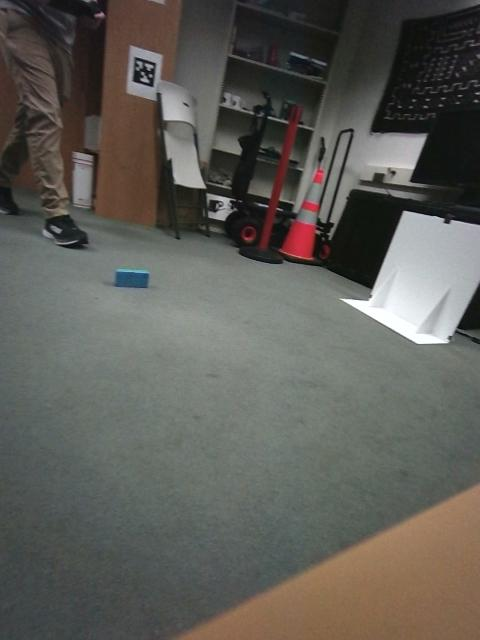block: (47, 429, 167, 519)
